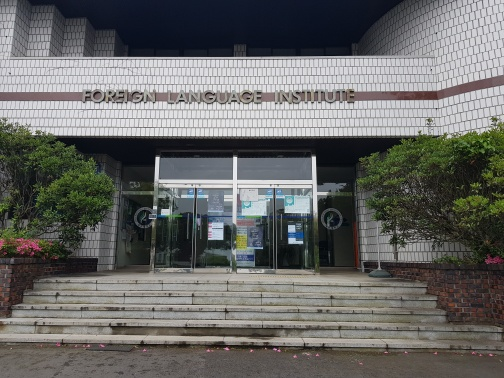Foreign Language Institute: (12, 10, 485, 369), (94, 133, 401, 332), (78, 74, 361, 113)
